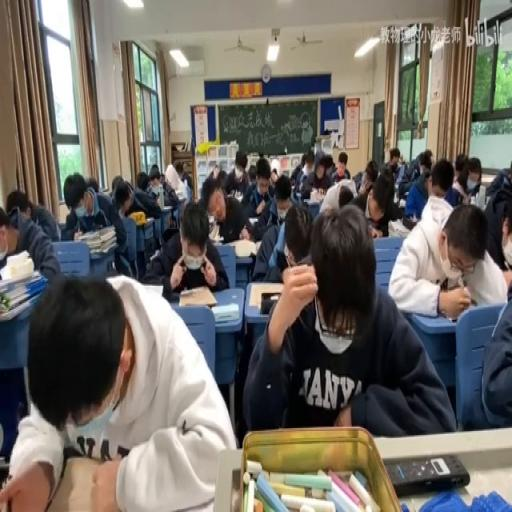calculator: (384, 452, 468, 494), (0, 289, 39, 321), (178, 286, 218, 308), (77, 224, 113, 242), (226, 238, 258, 258), (210, 300, 238, 322), (386, 216, 409, 236), (170, 194, 186, 220), (90, 244, 115, 258), (136, 282, 162, 292), (58, 200, 68, 224), (208, 222, 221, 240), (302, 195, 322, 205), (147, 181, 160, 196), (173, 188, 185, 200), (159, 203, 173, 212), (232, 188, 242, 200), (254, 239, 262, 253), (248, 216, 258, 225), (398, 196, 406, 206), (98, 185, 107, 193), (144, 216, 154, 223)
paper: (5, 269, 233, 509), (243, 202, 449, 437), (143, 196, 226, 298), (62, 171, 130, 277), (470, 273, 510, 430), (2, 193, 59, 286), (251, 183, 304, 276), (354, 168, 402, 236), (483, 164, 512, 268), (402, 150, 438, 218), (449, 155, 477, 208), (223, 150, 250, 198), (253, 158, 272, 205), (290, 151, 310, 192), (332, 150, 350, 180), (386, 148, 402, 176), (338, 184, 354, 206), (351, 168, 365, 192), (364, 164, 378, 184), (136, 172, 149, 192), (148, 165, 160, 185), (86, 174, 99, 192), (247, 165, 258, 186), (218, 169, 228, 192), (324, 154, 334, 174), (111, 174, 123, 190), (174, 160, 184, 178), (181, 171, 191, 189), (422, 149, 433, 165), (270, 166, 278, 184), (454, 165, 463, 181), (212, 164, 218, 179), (158, 176, 165, 186), (289, 175, 294, 188)
person: (258, 292, 280, 314), (444, 314, 458, 322)
